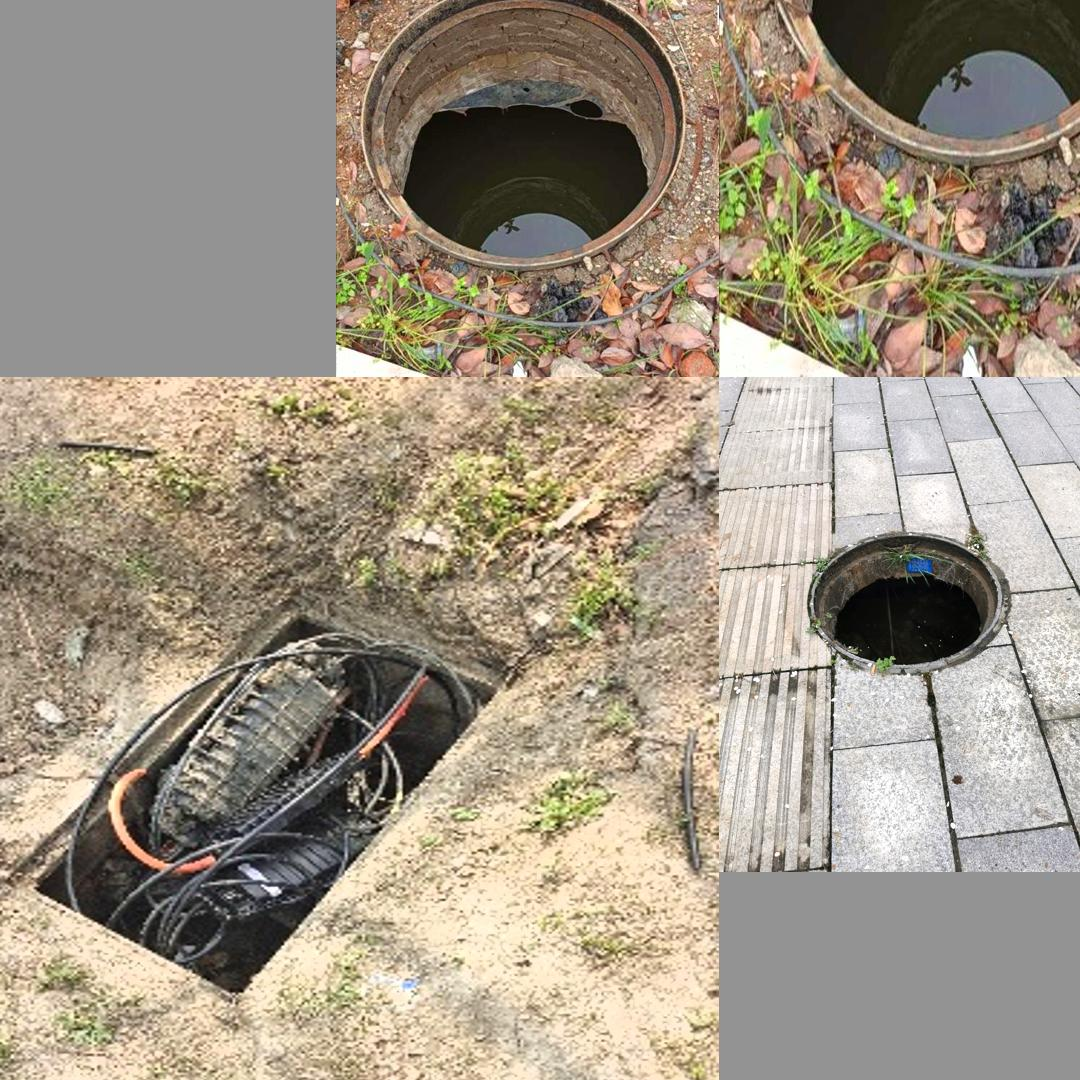lose: (5, 600, 526, 1002), (358, 0, 690, 273), (743, 0, 1080, 170), (808, 530, 1002, 673)
